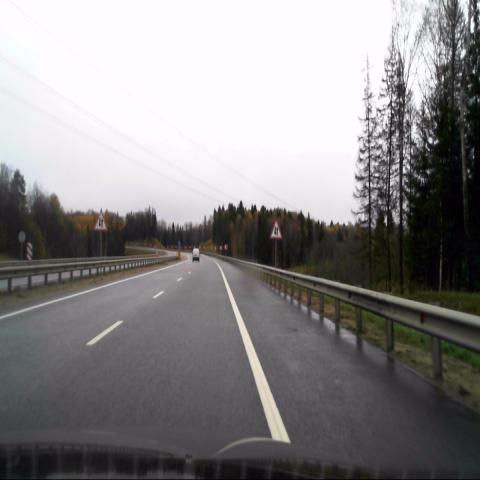1_21: (93, 209, 107, 231), (270, 219, 282, 239)
